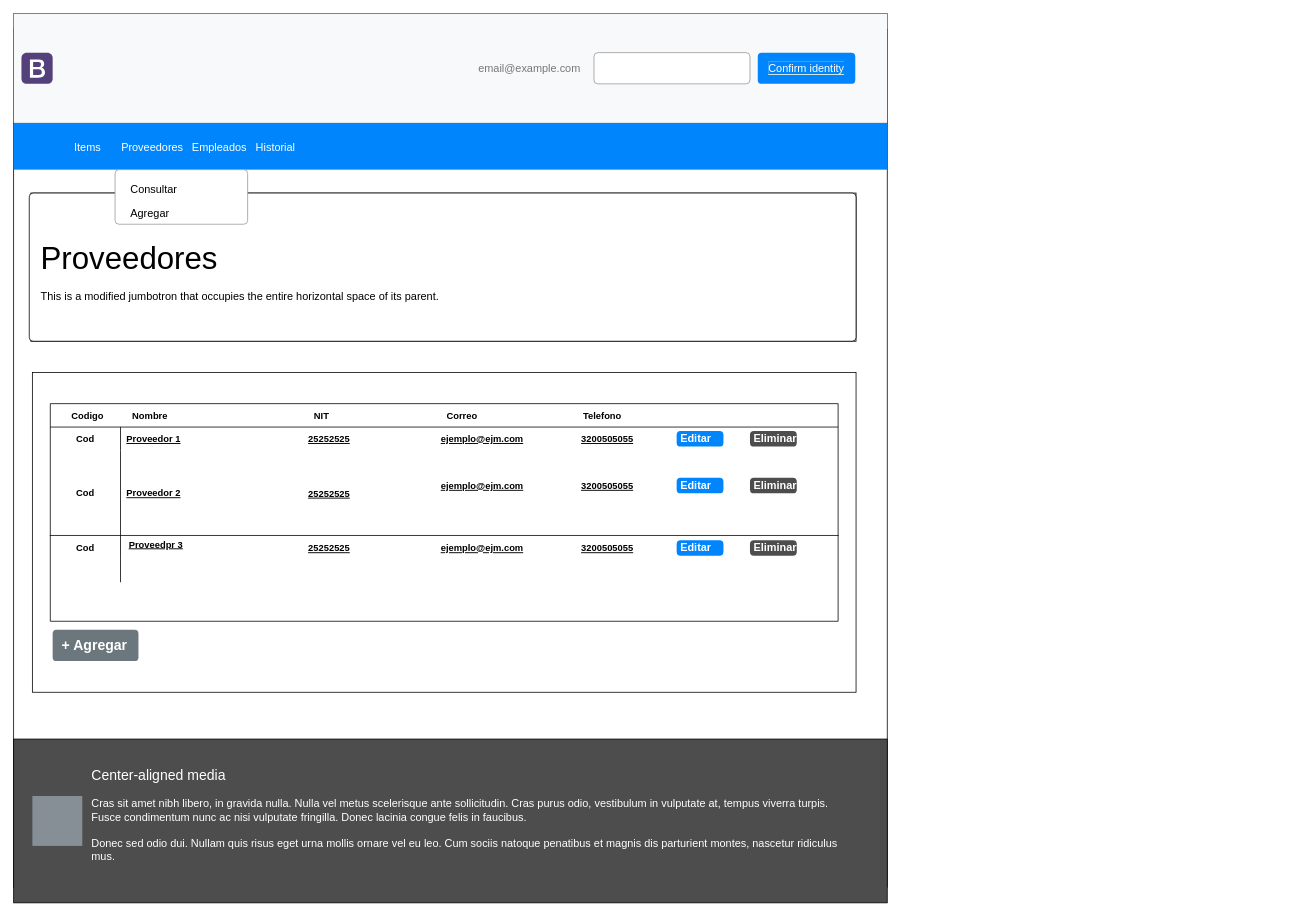
Some shapes in this 1307 by 916 pixel diagram are drawn without their labels. The shapes that lost their labels are listed below. From the top down, each one's centre as x and y in pixels, then its label:
At point (450, 67): "Bootstrap".
At point (671, 68): "Password".
At point (450, 145): "Inicio".
At point (57, 821): "64x64".
